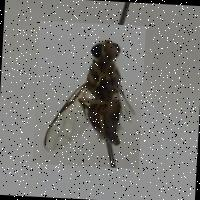Oriental-fruit-fly: (33, 20, 146, 168)
